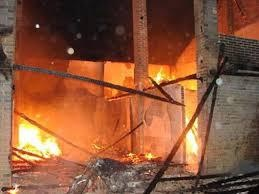fire: (14, 118, 61, 160)
